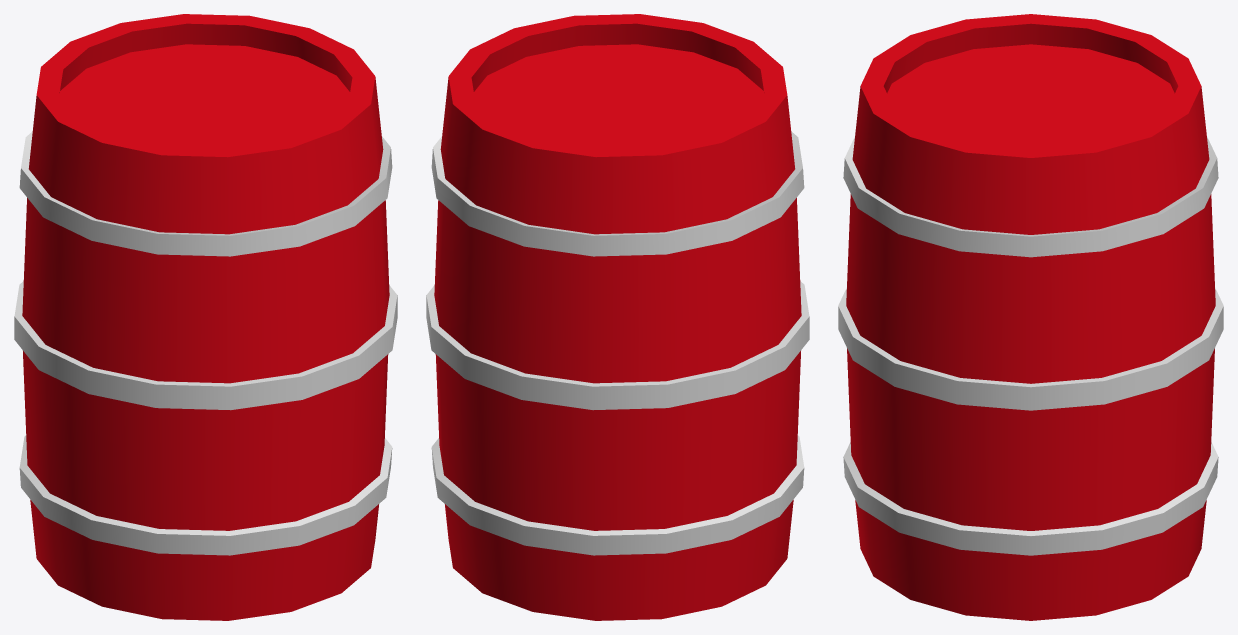
File: Barrel lowpoly.fbx
3 renders of one model, left to right at view 1: azimuth 30°, elevation 25°; view 2: azimuth 150°, elevation 25°; view 3: azimuth 270°, elevation 25°, orthographic.
Parts seen in each view (by area): view 1: Cylinder; view 2: Cylinder; view 3: Cylinder.
Boxes of the visible parts, x1,y1,x2,y2 form: Cylinder: (14,14,397,620); Cylinder: (426,14,809,620); Cylinder: (838,14,1223,620).
Size of the model in its own units: 176 by 233 by 176.
